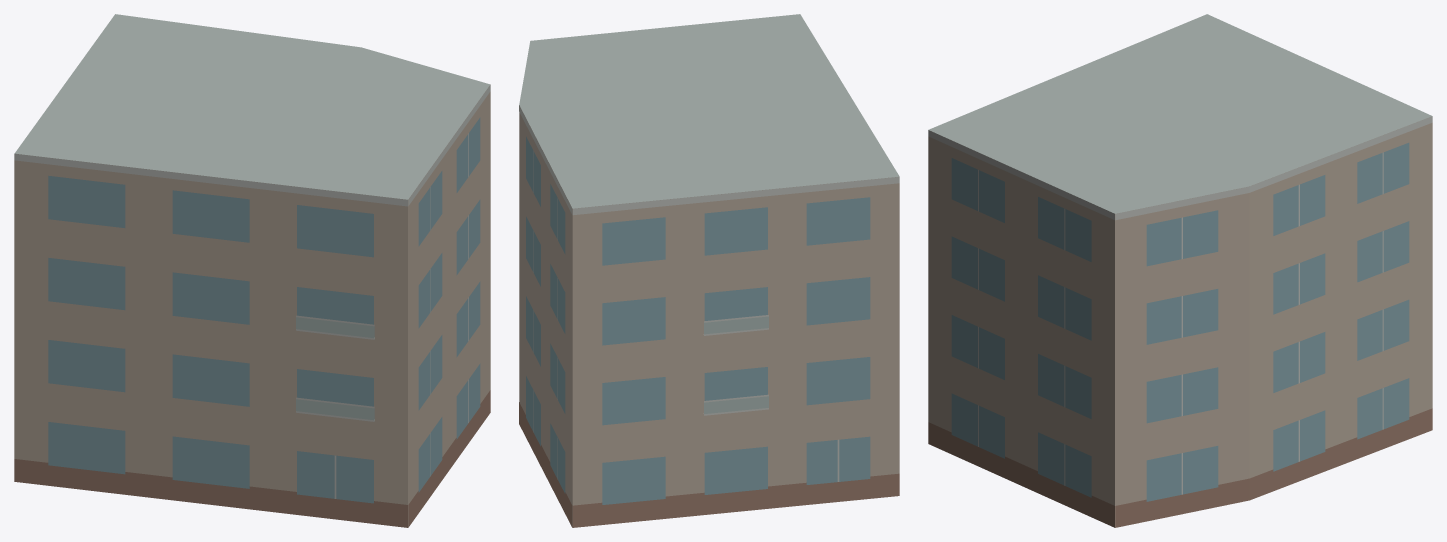
Rendered from survey-upis-33039469.glb.
3 views of the same model, side by side, from view 1: azimuth 30°, elevation 25°; view 2: azimuth 150°, elevation 25°; view 3: azimuth 270°, elevation 25° (orthographic). The views are drawn at different scales.
Parts seen in each view (by area): view 1: survey-upis-33039469.tmp; view 2: survey-upis-33039469.tmp; view 3: survey-upis-33039469.tmp.
Boxes of the visible parts, x1=… form: survey-upis-33039469.tmp: x1=14, y1=14, x2=490, y2=527; survey-upis-33039469.tmp: x1=519, y1=14, x2=899, y2=527; survey-upis-33039469.tmp: x1=928, y1=14, x2=1432, y2=527.
Size of the model in its own units: 16.11 by 11.8 by 17.18.
